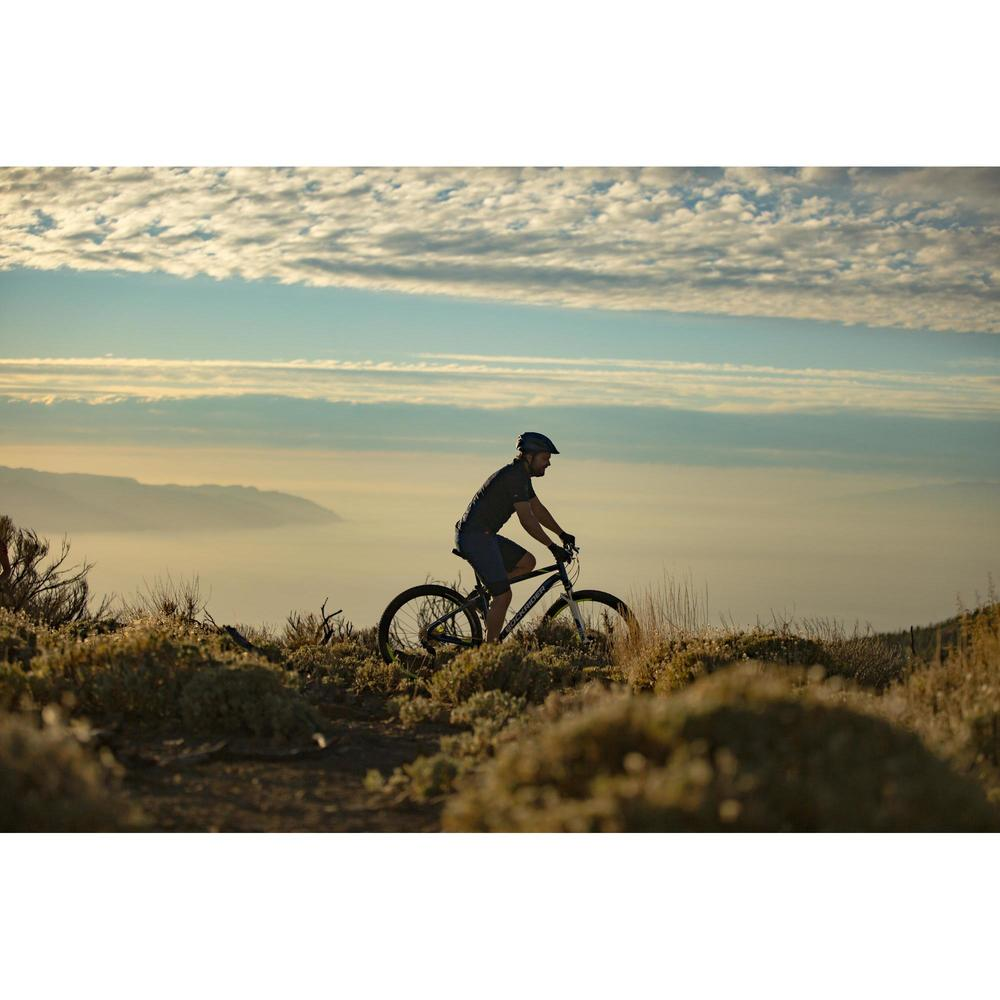MountainBike: (367, 535, 646, 674)
